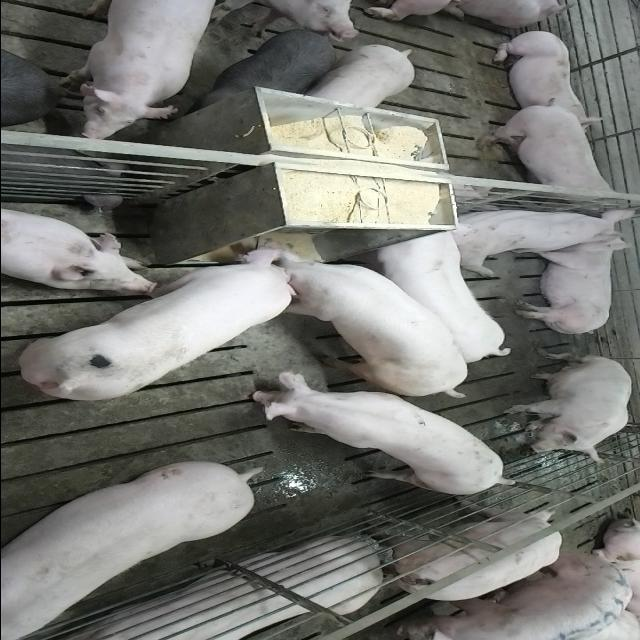Feeding: (16, 240, 298, 403), (252, 238, 470, 396)
Lateral_lying: (510, 235, 630, 337)
Sitting: (500, 354, 632, 466), (442, 203, 630, 270)
Standing: (0, 464, 257, 640), (244, 374, 516, 497), (58, 1, 225, 140), (378, 551, 634, 640), (366, 508, 564, 622), (358, 228, 512, 364), (475, 102, 621, 204), (184, 30, 338, 111), (304, 44, 414, 110), (3, 41, 55, 128)
Sternal_lying: (0, 206, 155, 292), (486, 28, 602, 123)
